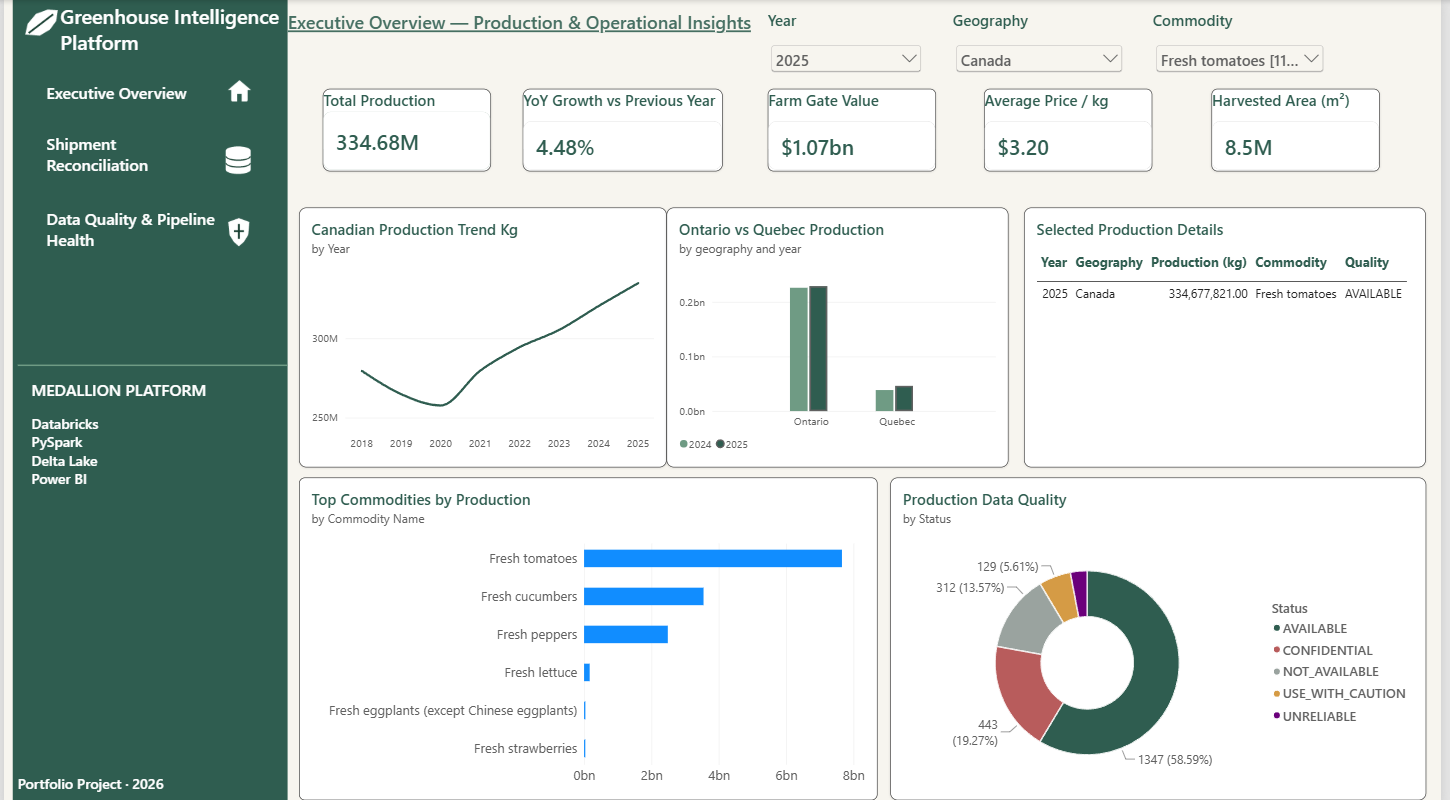

What the dashboard file says about the page in this screenshot:
{"tool":"powerbi","page":{"name":"Executive Overview","canvas":[1920,1080],"ordinal":0},"visuals":[{"type":"shape","box":[11.4,0,367.1,1080],"z":0,"group":"g2"},{"type":"textbox","box":[378.5,12.9,624.3,54.3],"z":1000,"group":"g1"},{"type":"slicer","title":"Year","fields":{"Values":["vw_greenhouse_analytics.year"]},"box":[1020,12.9,210,102.9],"z":1000},{"type":"slicer","title":"Commodity","fields":{"Values":["vw_greenhouse_analytics.commodity"]},"box":[1534.3,12.9,232.9,102.9],"z":2000},{"type":"slicer","title":"Geography","fields":{"Values":["vw_greenhouse_analytics.geography"]},"box":[1267.1,12.9,231.4,102.9],"z":3000},{"type":"cardVisual","title":"Total Production","fields":{"Data":["vw_greenhouse_analytics.Total Production Kg"]},"box":[425.7,118.6,225,110],"z":4000},{"type":"cardVisual","title":"YoY Growth vs Previous Year","fields":{"Data":["vw_production_yoy.YoY Growth %"]},"box":[692.9,118.6,267.1,110],"z":5000},{"type":"cardVisual","title":"Harvested Area (m²)","fields":{"Data":["vw_greenhouse_analytics.Harvested Area M2"]},"box":[1612.9,118.6,225,110],"z":6000},{"type":"cardVisual","title":"Average Price / kg","fields":{"Data":["vw_greenhouse_analytics.Average Price per Kg"]},"box":[1308.6,118.6,225,110],"z":7000},{"type":"cardVisual","title":"Farm Gate Value","fields":{"Data":["vw_greenhouse_analytics.Farm Gate Value"]},"box":[1020,118.6,225,110],"z":8000},{"type":"lineChart","fields":{"Category":["Trend Years.Year"],"Y":["Commodity List.Canadian Production Trend Kg"]},"box":[394.3,277.1,491.4,347.1],"z":9000},{"type":"lineClusteredColumnComboChart","fields":{"Category":["vw_production_yoy.geography"],"Series":["vw_production_yoy.year"],"Y":["vw_production_yoy.Province Comparison Production Kg"]},"box":[885.7,277.1,457.1,347.1],"z":10000},{"type":"donutChart","fields":{"Category":["Quality Status.Status"],"Y":["vw_greenhouse_analytics.Overall Quality Record Count"]},"box":[1184.3,637.1,715.7,431.4],"z":11000},{"type":"clusteredBarChart","fields":{"Category":["Commodity List.Commodity Name"],"Y":["vw_greenhouse_analytics.Overall Commodity Production Kg"]},"box":[394.3,637.1,772.9,431.4],"z":12000},{"type":"tableEx","title":"Selected Production Details","fields":{"Values":["vw_greenhouse_analytics.year","vw_greenhouse_analytics.geography","Sum(vw_greenhouse_analytics.production_kg)","vw_greenhouse_analytics.Commodity Name","vw_greenhouse_analytics.production_quality"]},"box":[1362.9,277.1,537.1,347.1],"z":13000},{"type":"image","box":[11.4,0,77.1,67.1],"z":14000,"group":"g2"},{"type":"textbox","box":[75.7,2.9,292.9,95.7],"z":15000,"group":"g2"},{"type":"actionButton","box":[50,98.6,300,65.7],"z":16000,"group":"g2"},{"type":"textbox","box":[55.7,108.6,197.1,45.7],"z":17000,"group":"g2"},{"type":"image","box":[278.5,98.6,71.4,45.7],"z":17001,"group":"g1"},{"type":"group","id":"g1","title":"Group 1","box":[278.5,12.9,724.3,131.4],"z":18000,"group":"g2"},{"type":"actionButton","box":[50,174.3,300,70],"z":19000,"group":"g2"},{"type":"image","box":[275.7,185.7,74.3,58.6],"z":20000,"group":"g2"},{"type":"textbox","box":[55.7,177.1,211.4,58.6],"z":21000,"group":"g2"},{"type":"actionButton","box":[50,277.1,300,67.1],"z":22000,"group":"g2"},{"type":"image","box":[268.5,284.3,90,52.9],"z":23000,"group":"g2"},{"type":"textbox","box":[55.7,277.1,262.9,67.1],"z":24000,"group":"g2"},{"type":"shape","box":[18.5,451.4,360,74.3],"z":24001,"group":"g2"},{"type":"textbox","box":[37.1,505.7,300,40],"z":24002,"group":"g2"},{"type":"textbox","box":[37.1,552.9,300,114.3],"z":24003,"group":"g2"},{"type":"textbox","box":[18.5,1034.3,300,34.3],"z":24004,"group":"g2"},{"type":"group","id":"g2","title":"Group 2","box":[11.4,0,991.4,1080],"z":24005}]}

Visuals, with their boxes on the page's 1920x1080 design canvas (x1, y1, x2, y2). These are canvas units, not pixel positions in the 1450x800 screenshot, which may show the page scaled, cropped or inside an application window:
shape: bbox=(11, 0, 378, 1080)
textbox: bbox=(378, 13, 1003, 67)
"Year" slicer: bbox=(1020, 13, 1230, 116)
"Commodity" slicer: bbox=(1534, 13, 1767, 116)
"Geography" slicer: bbox=(1267, 13, 1498, 116)
"Total Production" cardVisual: bbox=(426, 119, 651, 229)
"YoY Growth vs Previous Year" cardVisual: bbox=(693, 119, 960, 229)
"Harvested Area (m²)" cardVisual: bbox=(1613, 119, 1838, 229)
"Average Price / kg" cardVisual: bbox=(1309, 119, 1534, 229)
"Farm Gate Value" cardVisual: bbox=(1020, 119, 1245, 229)
lineChart - Trend Years.Year x Commodity List.Canadian Production Trend Kg: bbox=(394, 277, 886, 624)
lineClusteredColumnComboChart - vw_production_yoy.geography x vw_production_yoy.year: bbox=(886, 277, 1343, 624)
donutChart - Quality Status.Status x vw_greenhouse_analytics.Overall Quality Record Count: bbox=(1184, 637, 1900, 1068)
clusteredBarChart - Commodity List.Commodity Name x vw_greenhouse_analytics.Overall Commodity Production Kg: bbox=(394, 637, 1167, 1068)
"Selected Production Details" tableEx: bbox=(1363, 277, 1900, 624)
image: bbox=(11, 0, 88, 67)
textbox: bbox=(76, 3, 369, 99)
actionButton: bbox=(50, 99, 350, 164)
textbox: bbox=(56, 109, 253, 154)
image: bbox=(278, 99, 350, 144)
"Group 1" group: bbox=(278, 13, 1003, 144)
actionButton: bbox=(50, 174, 350, 244)
image: bbox=(276, 186, 350, 244)
textbox: bbox=(56, 177, 267, 236)
actionButton: bbox=(50, 277, 350, 344)
image: bbox=(268, 284, 358, 337)
textbox: bbox=(56, 277, 319, 344)
shape: bbox=(18, 451, 378, 526)
textbox: bbox=(37, 506, 337, 546)
textbox: bbox=(37, 553, 337, 667)
textbox: bbox=(18, 1034, 318, 1069)
"Group 2" group: bbox=(11, 0, 1003, 1080)
